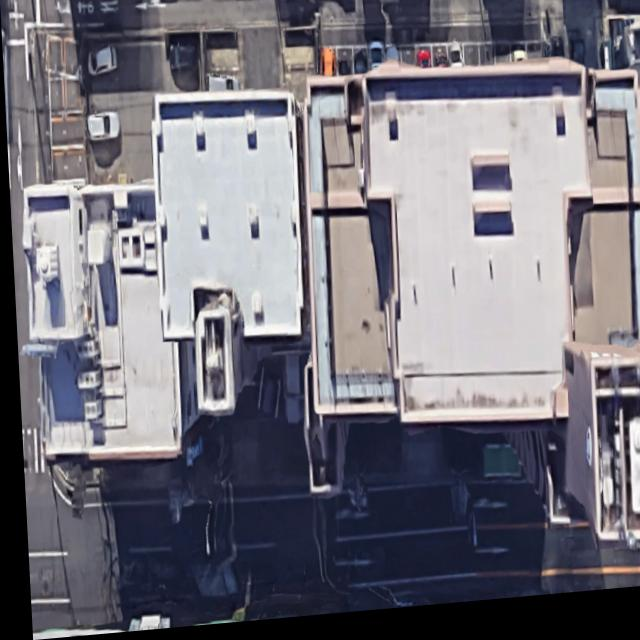Batiment: (302, 67, 640, 559), (151, 94, 299, 419), (19, 187, 194, 461)
